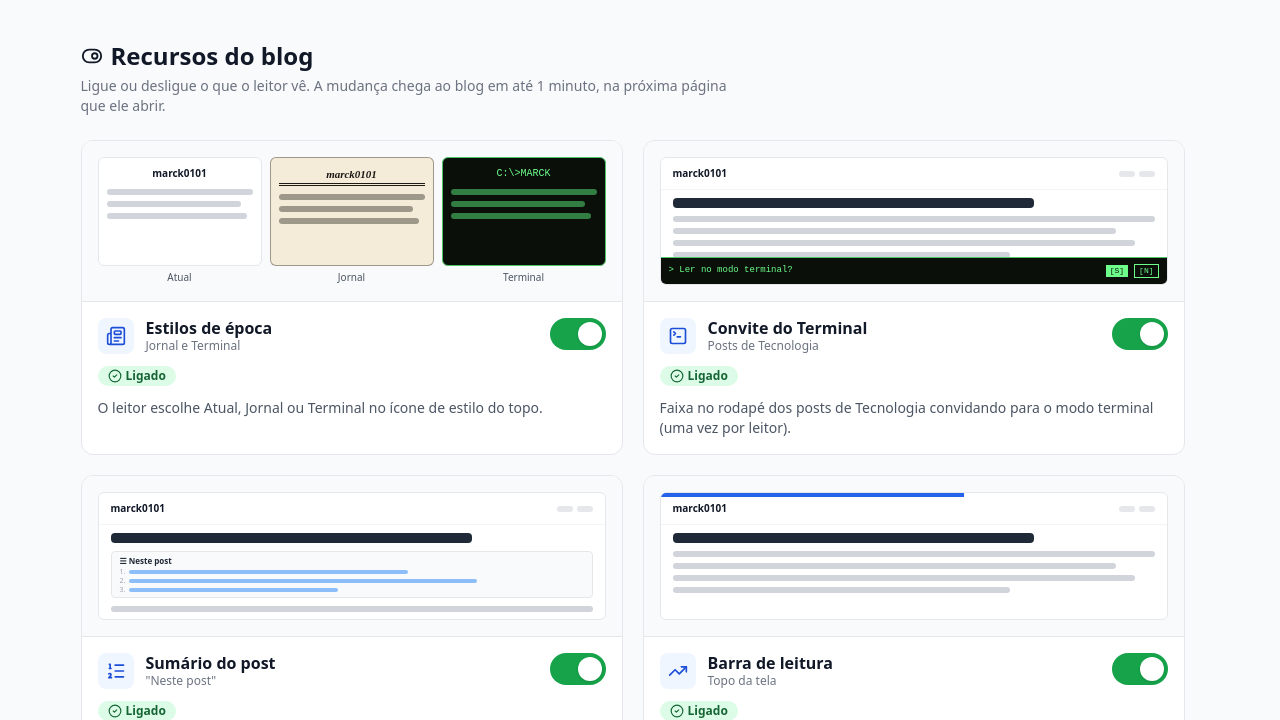
Test: página Recursos do blog (painel) › Sim: desliga
Click the switch named "Sumário do post". click: (578, 669)
box: [550,653,606,685]
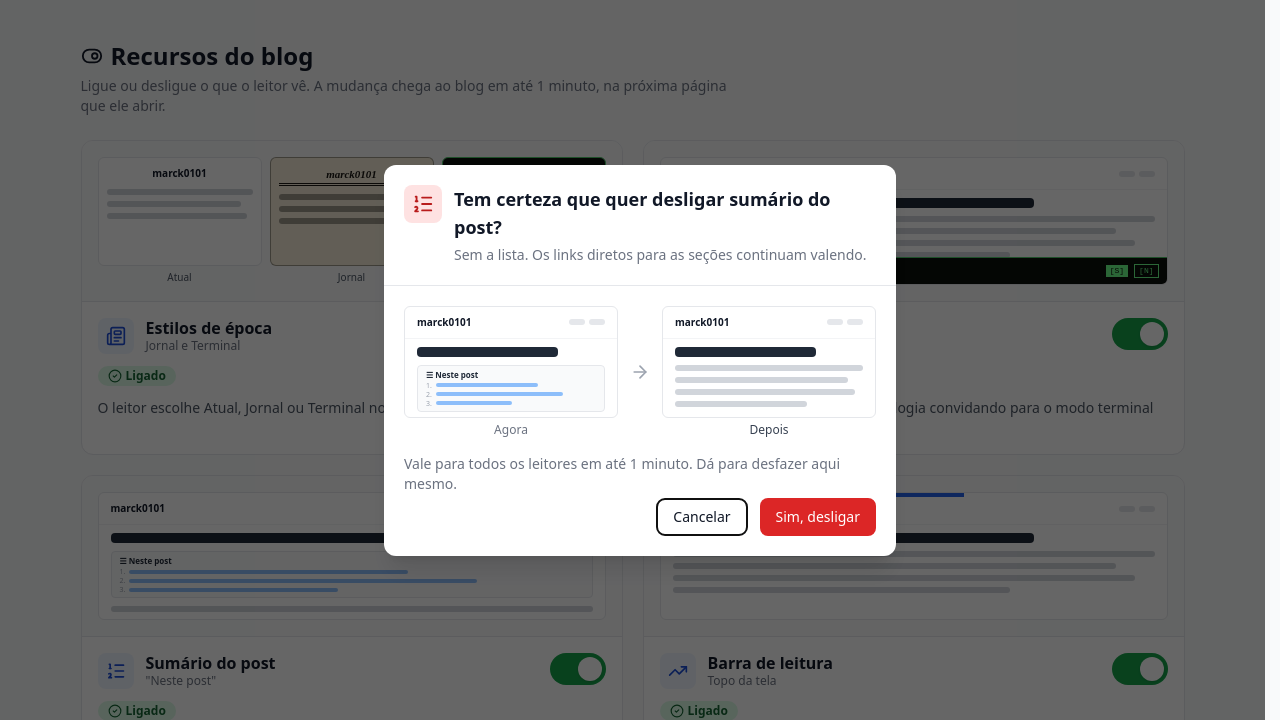
Click the button "Sim, desligar". click: (818, 516)
box: [760,498,876,536]
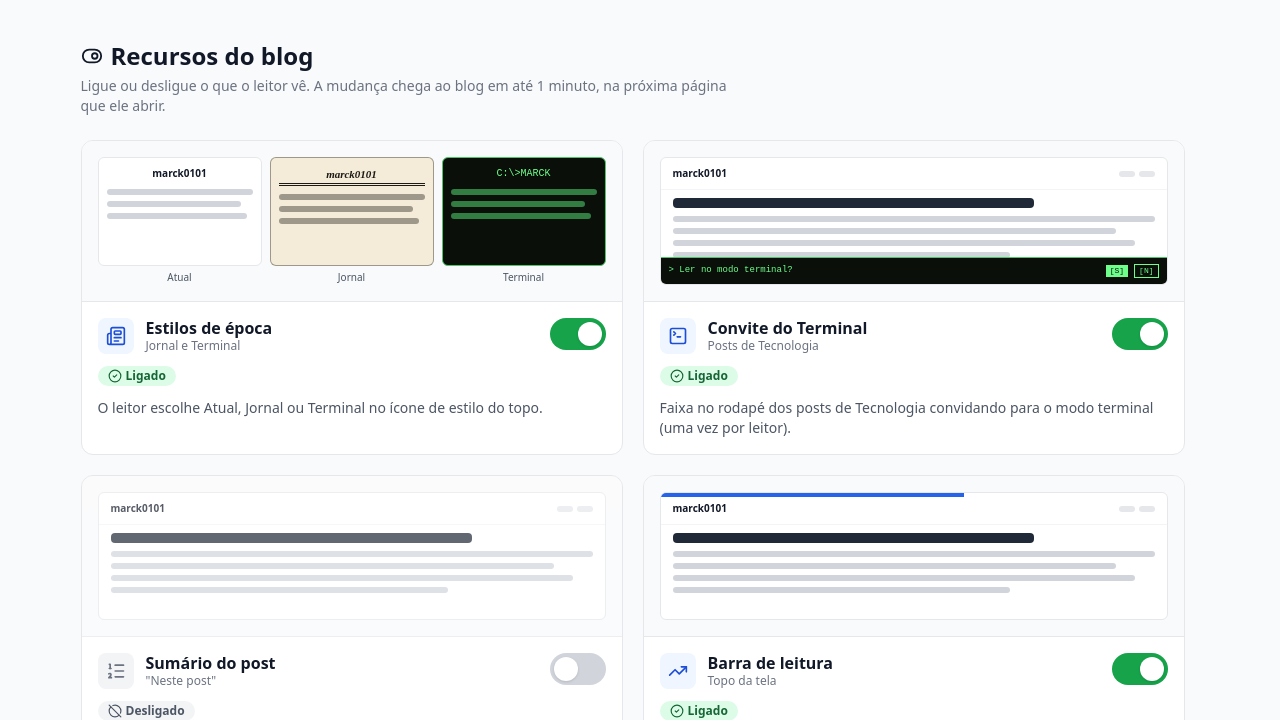
Now the dialog is gone
